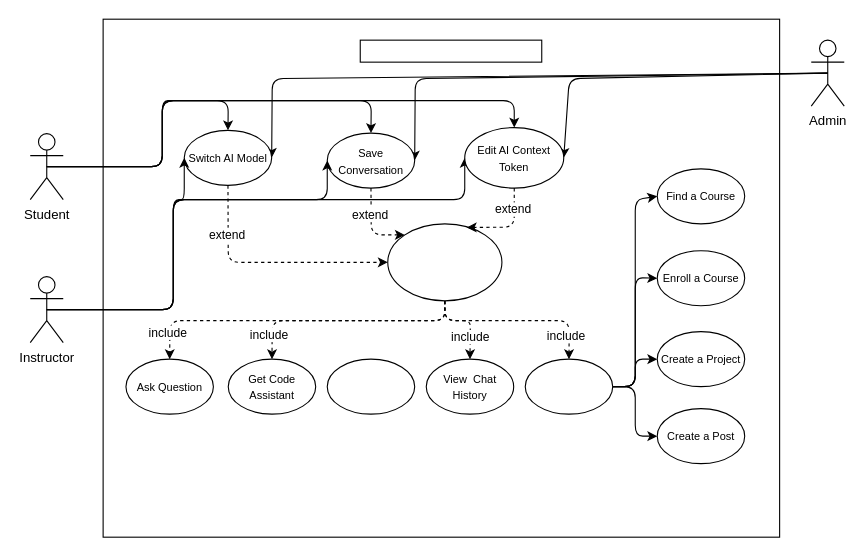
The diagram is 865 pixels wide and 557 high, and some of its shapes have lost their labels. The shapes that lost their labels are listed below. From the top down, each one's box as (x1, y1, x2, y2) in pixels, then its label:
(359, 39, 542, 62): AI Mentor System
(387, 223, 502, 301): Interact with AI Mentor
(326, 358, 415, 414): Request Explaination
(524, 358, 613, 414): Ask Automation
